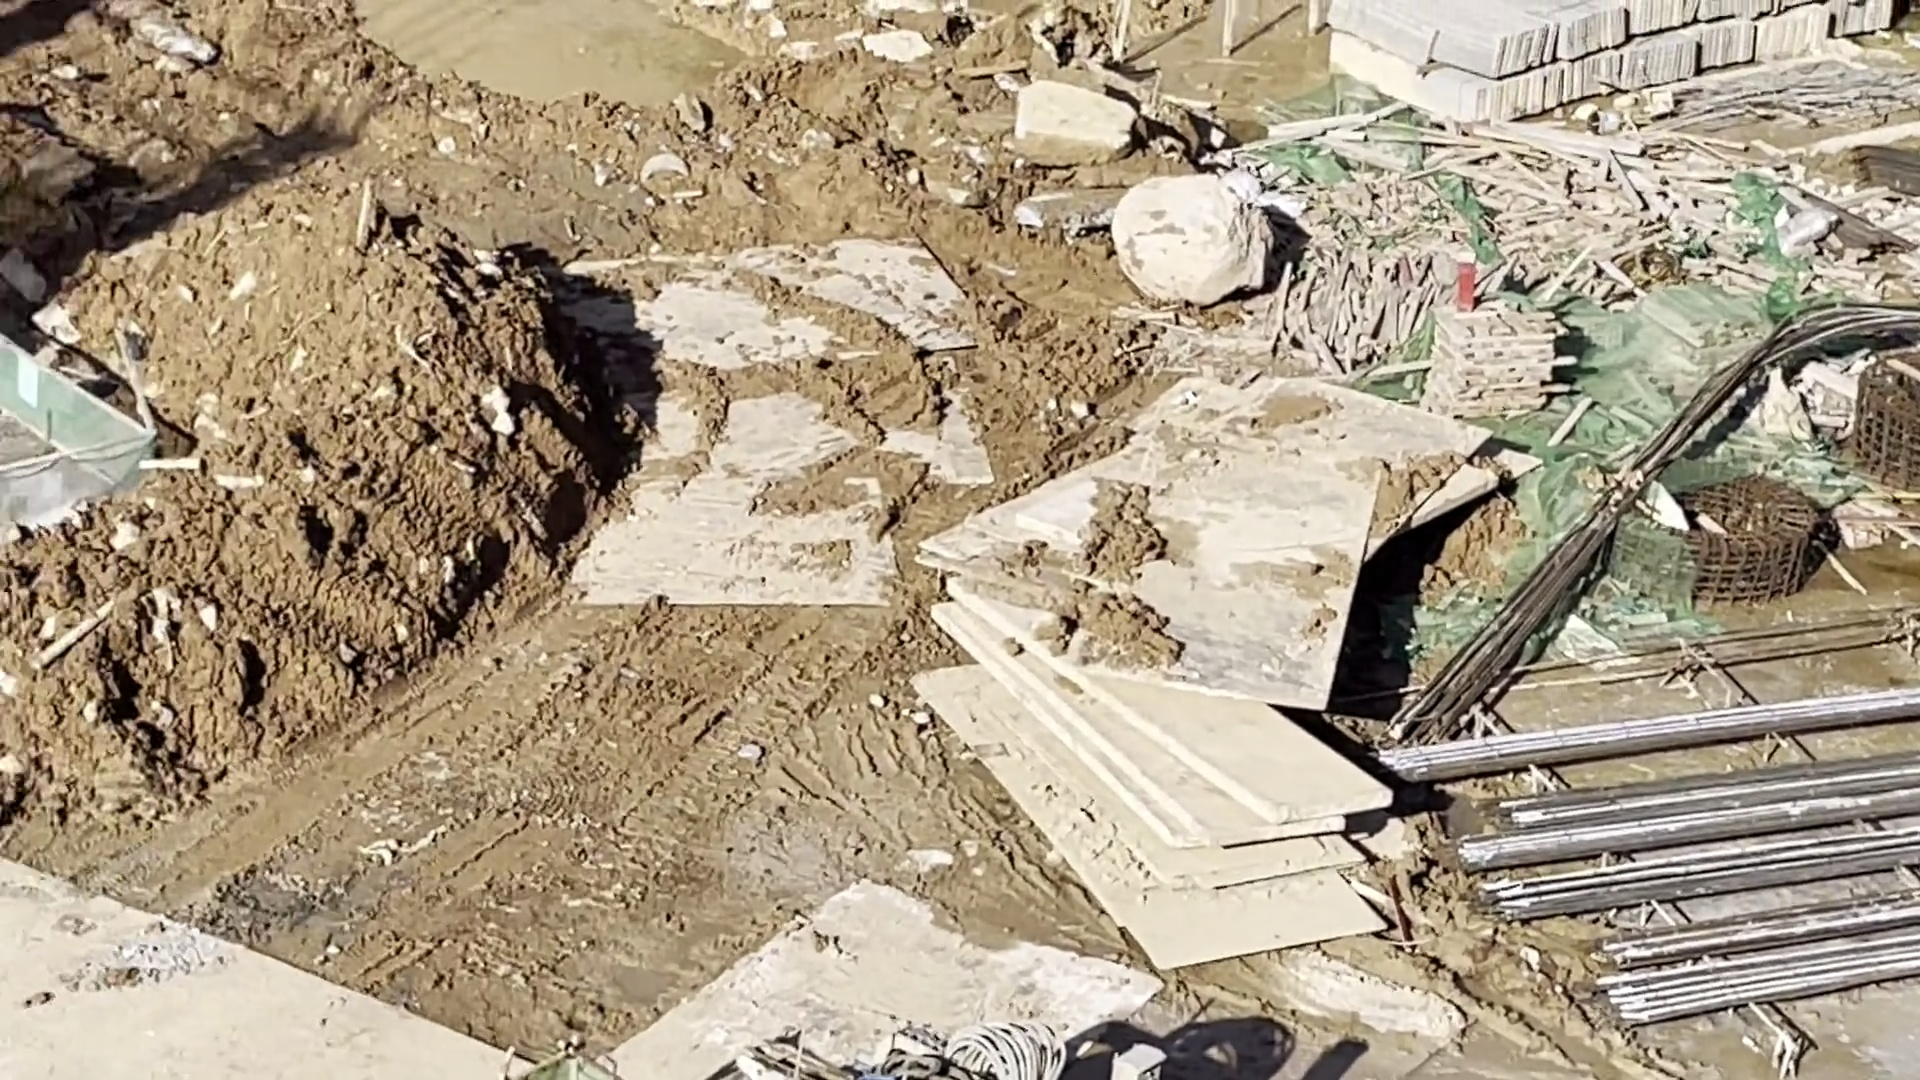rebar: (1396, 343, 1746, 728), (1393, 679, 1920, 779), (1480, 781, 1920, 857), (1491, 849, 1909, 922), (1567, 886, 1919, 953), (1604, 943, 1920, 1014), (1514, 769, 1920, 804)
